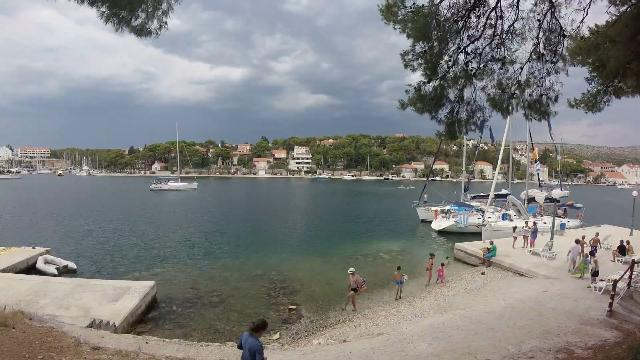Sailboat: (143, 172, 204, 197)
